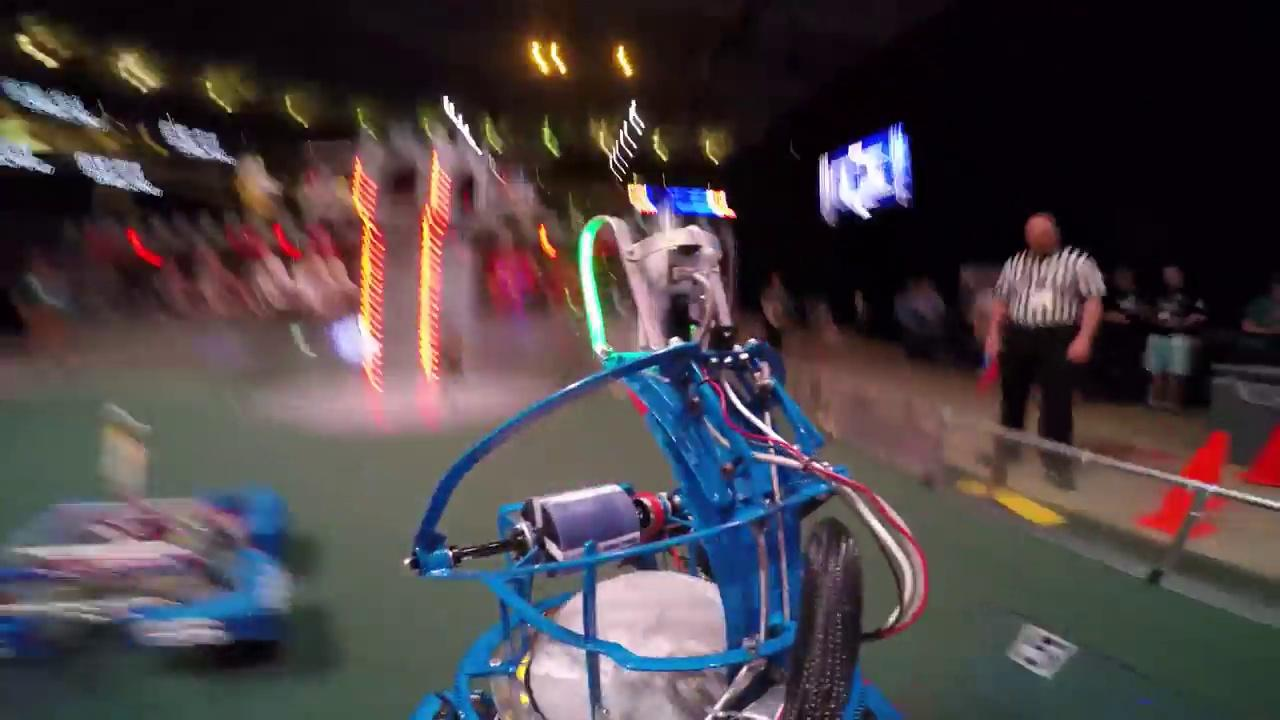robot: (0, 403, 297, 669)
